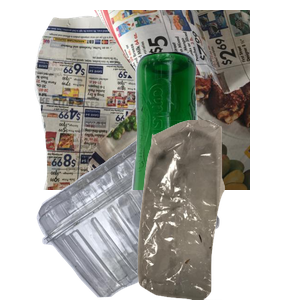glass: (129, 49, 300, 229)
paper: (32, 10, 272, 190)
plastic: (34, 130, 246, 300)
trash: (114, 120, 300, 300)
